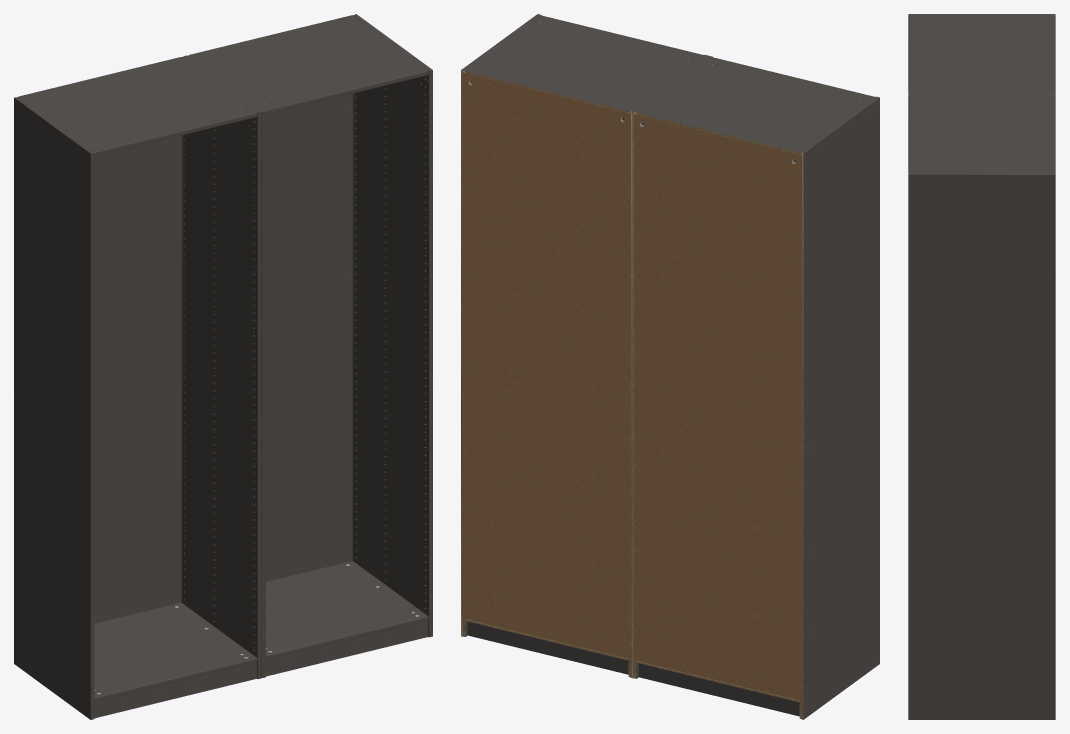
File: 19 - PAX 2 wardrobe frames - dark grey 150x58x236 cm.glb
3 renders of one model, left to right at view 1: azimuth 30°, elevation 25°; view 2: azimuth 150°, elevation 25°; view 3: azimuth 270°, elevation 25°, orthographic. The views are drawn at different scales.
Parts seen in each view (by area): view 1: 89556411_2_wardrobe_frames.002, 89556411_2_wardrobe_frames.001; view 2: 89556411_2_wardrobe_frames.002, 89556411_2_wardrobe_frames.001; view 3: 89556411_2_wardrobe_frames.001, 89556411_2_wardrobe_frames.002.
Part boxes in pixels (left/top/right/bottom): 89556411_2_wardrobe_frames.002: left=14, top=56, right=261, bottom=719; 89556411_2_wardrobe_frames.001: left=185, top=14, right=432, bottom=677; 89556411_2_wardrobe_frames.002: left=632, top=56, right=879, bottom=719; 89556411_2_wardrobe_frames.001: left=461, top=14, right=708, bottom=677; 89556411_2_wardrobe_frames.001: left=908, top=94, right=1055, bottom=719; 89556411_2_wardrobe_frames.002: left=908, top=14, right=1055, bottom=94.
Bounding box in the file's own units: 1.5 × 2.36 × 0.5801.
Materials: 1 (1 with a texture image).
